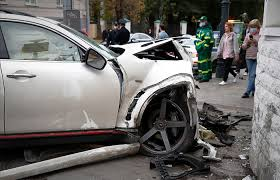car: (1, 12, 214, 156)
